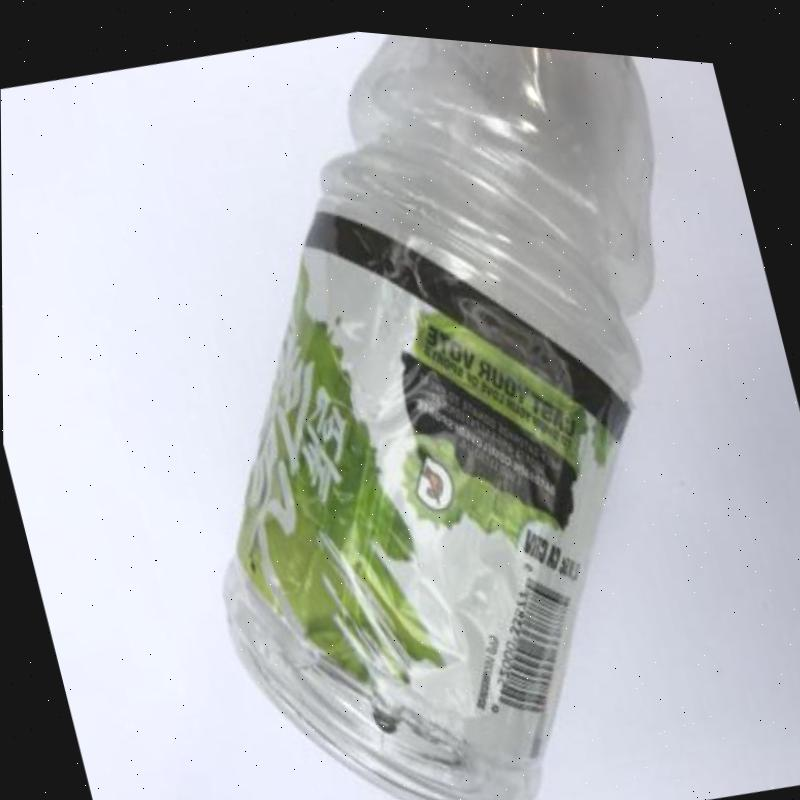botella: (83, 6, 800, 800)
